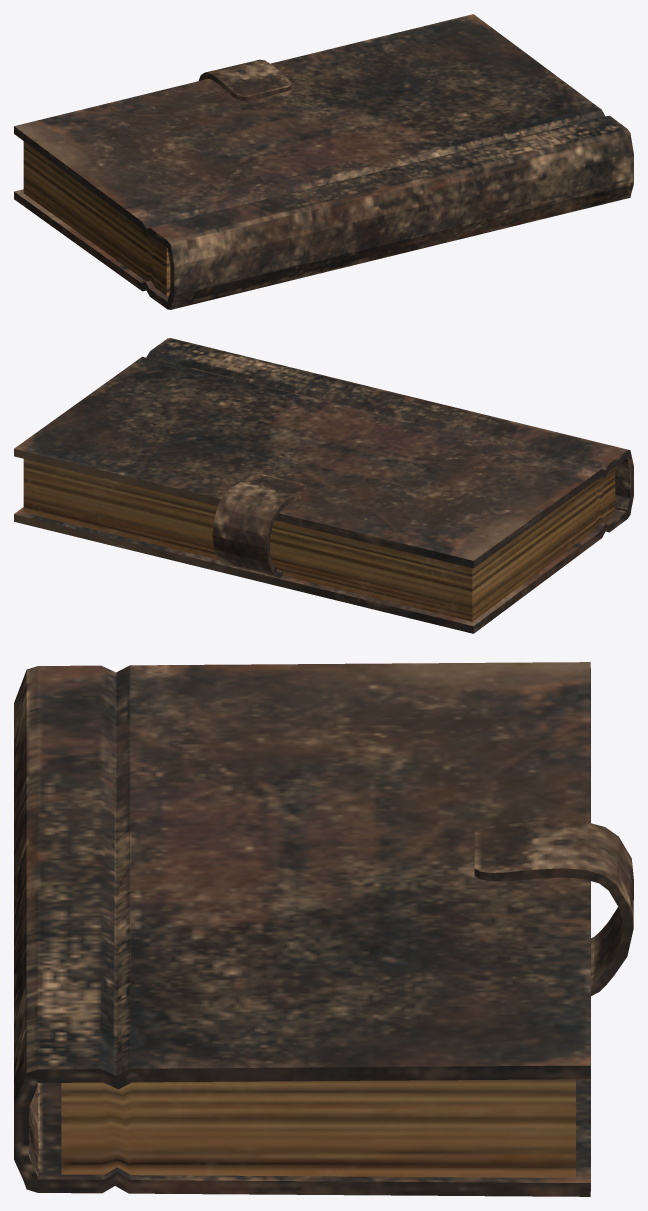
The model's file is Book03.fbx.
3 views of the same model, one above another, from view 1: azimuth 30°, elevation 25°; view 2: azimuth 150°, elevation 25°; view 3: azimuth 270°, elevation 25° (orthographic). The views are drawn at different scales.
Visible parts, largest first — view 1: Book03; view 2: Book03; view 3: Book03.
Part boxes in pixels (x1,y1,x2,y2): Book03: (14, 14, 633, 309); Book03: (14, 338, 633, 633); Book03: (14, 662, 633, 1196).
Size of the model in its own units: 50.16 by 8.35 by 32.58.
